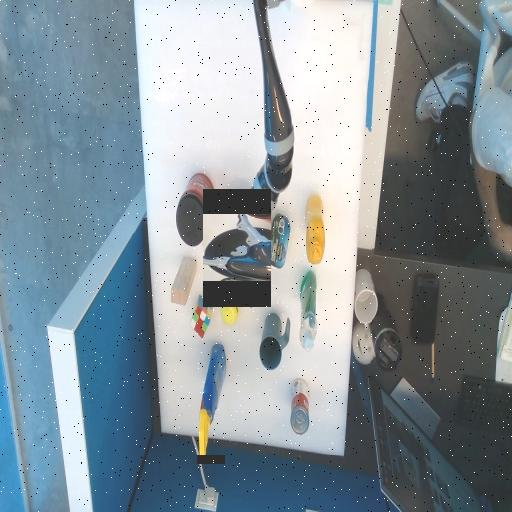bowl: (217, 210, 268, 262)
cleanser: (299, 303, 316, 319)
coffee_can: (176, 174, 214, 245)
jaco: (203, 213, 271, 281)
meat_can: (267, 214, 289, 268)
mug: (259, 313, 289, 369)
mustard_bottle: (305, 195, 324, 263)
rubik: (190, 295, 212, 338)
soup_can: (290, 379, 308, 434)
tennis_ball: (221, 294, 238, 324)
windex: (197, 394, 225, 416)
wooden_block: (171, 258, 195, 304)
workspace: (135, 3, 372, 455)
